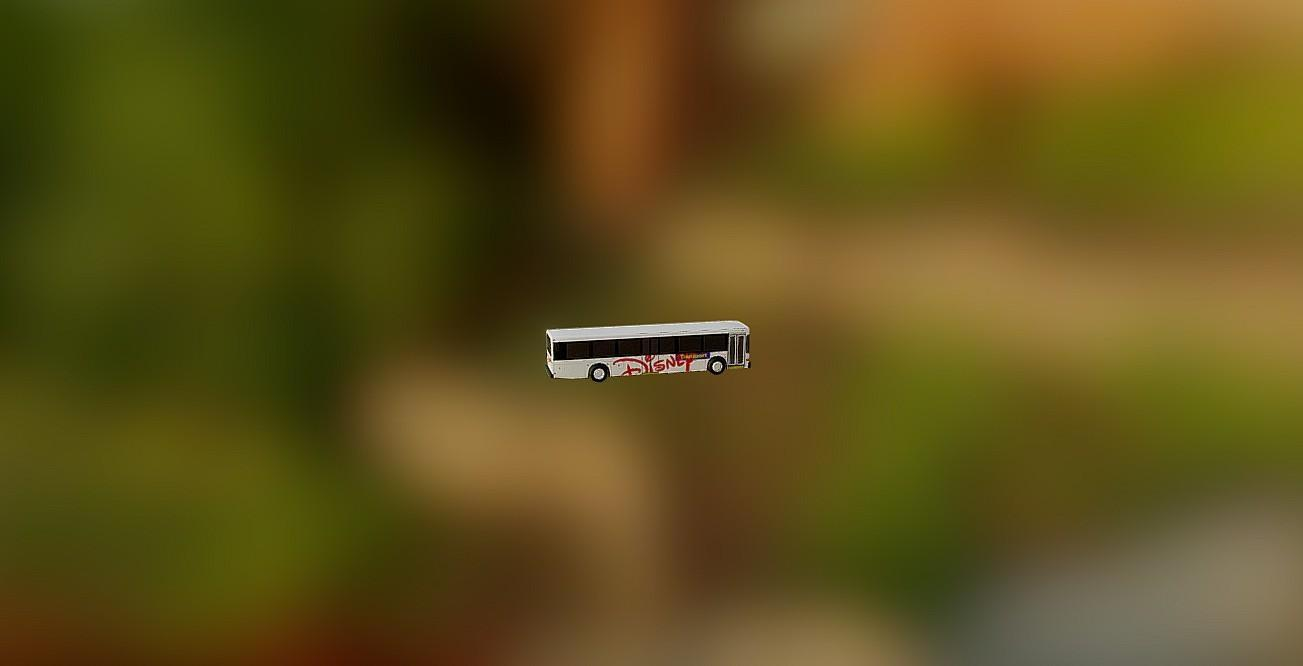Bus: (543, 318, 751, 382)
